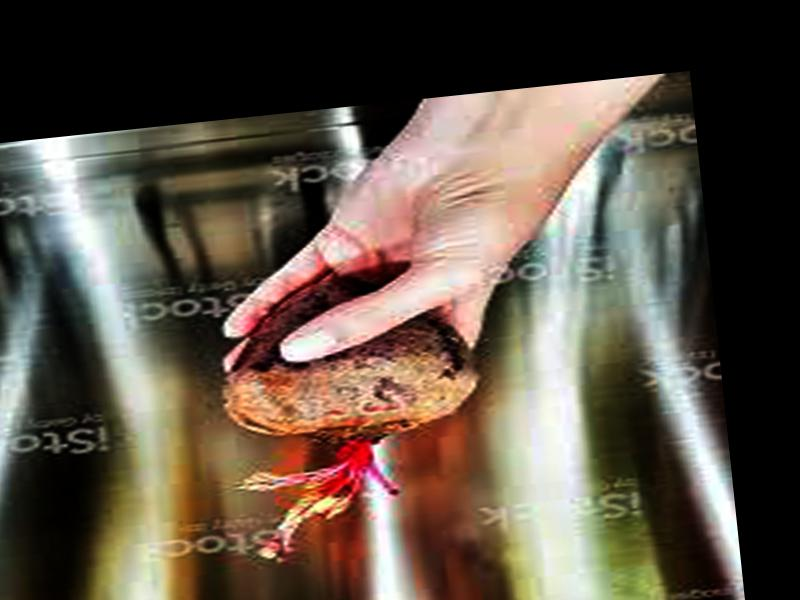Beet: (211, 263, 491, 558)
